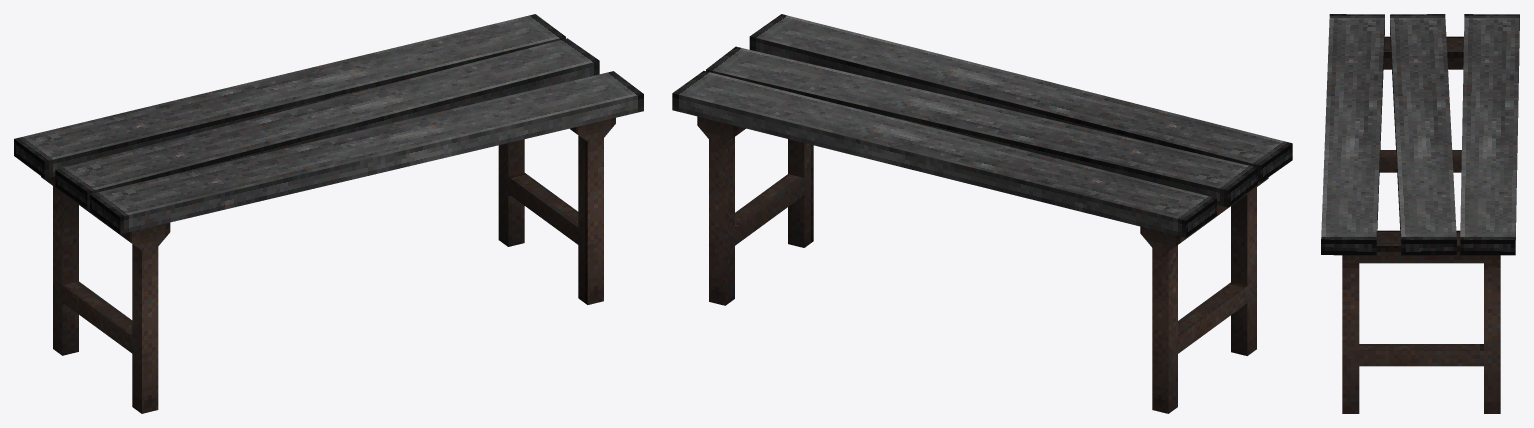
File: plastic-bench_dirty.glb
The picture shows the model from 3 angles, left to right: view 1: azimuth 30°, elevation 25°; view 2: azimuth 150°, elevation 25°; view 3: azimuth 270°, elevation 25°; orthographic projection. The views are drawn at different scales.
Parts seen in each view (by area): view 1: plastic-bench_dirty-col; view 2: plastic-bench_dirty-col; view 3: plastic-bench_dirty-col.
Part boxes in pixels (x1,y1,x2,y2): plastic-bench_dirty-col: [14, 14, 643, 413]; plastic-bench_dirty-col: [672, 14, 1292, 413]; plastic-bench_dirty-col: [1321, 14, 1519, 413].
Size of the model in its own units: 1 by 0.385 by 0.372.
Materials: 1 (1 with a texture image).
